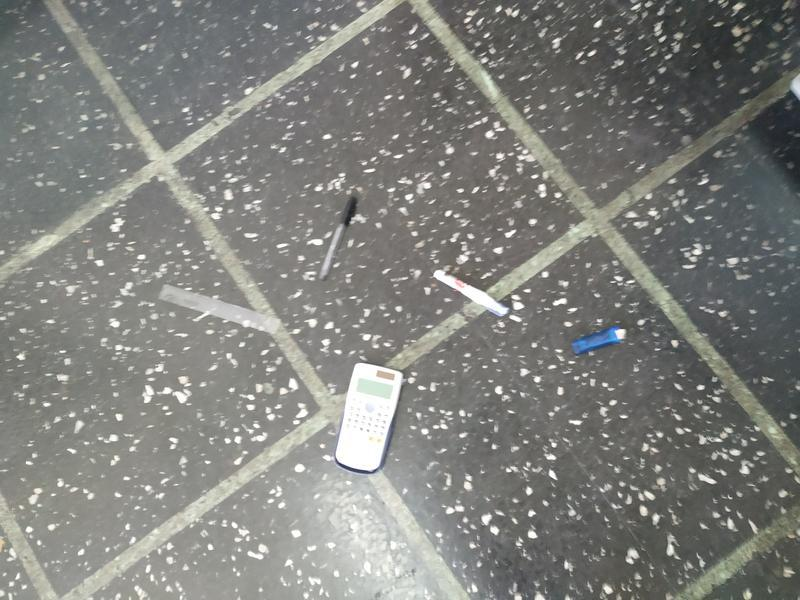calculadora: (333, 357, 404, 482)
corrector: (430, 264, 514, 320)
encendedor: (571, 323, 632, 360)
lapicera: (316, 193, 361, 287)
regla: (151, 277, 285, 339)
